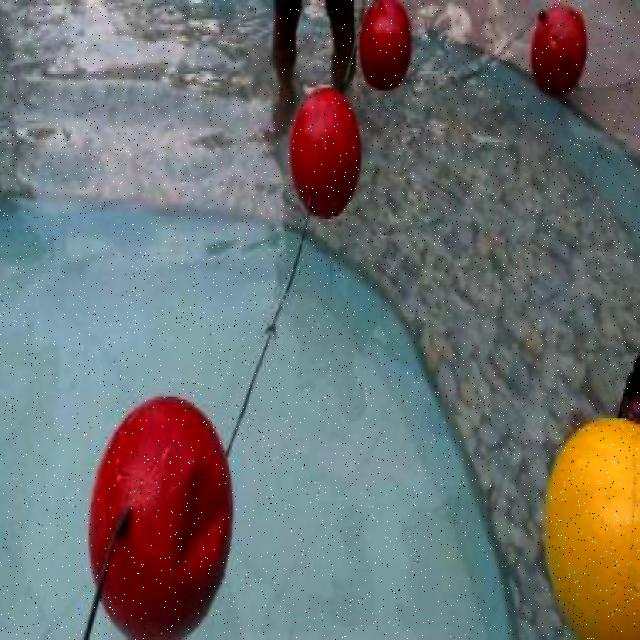buoy: (88, 392, 232, 636), (542, 418, 638, 637), (290, 87, 360, 219), (529, 2, 589, 96), (357, 0, 412, 90)
